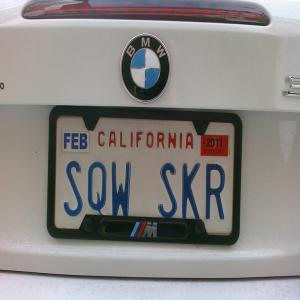Vehicle-registration-plate: (48, 106, 245, 248)
